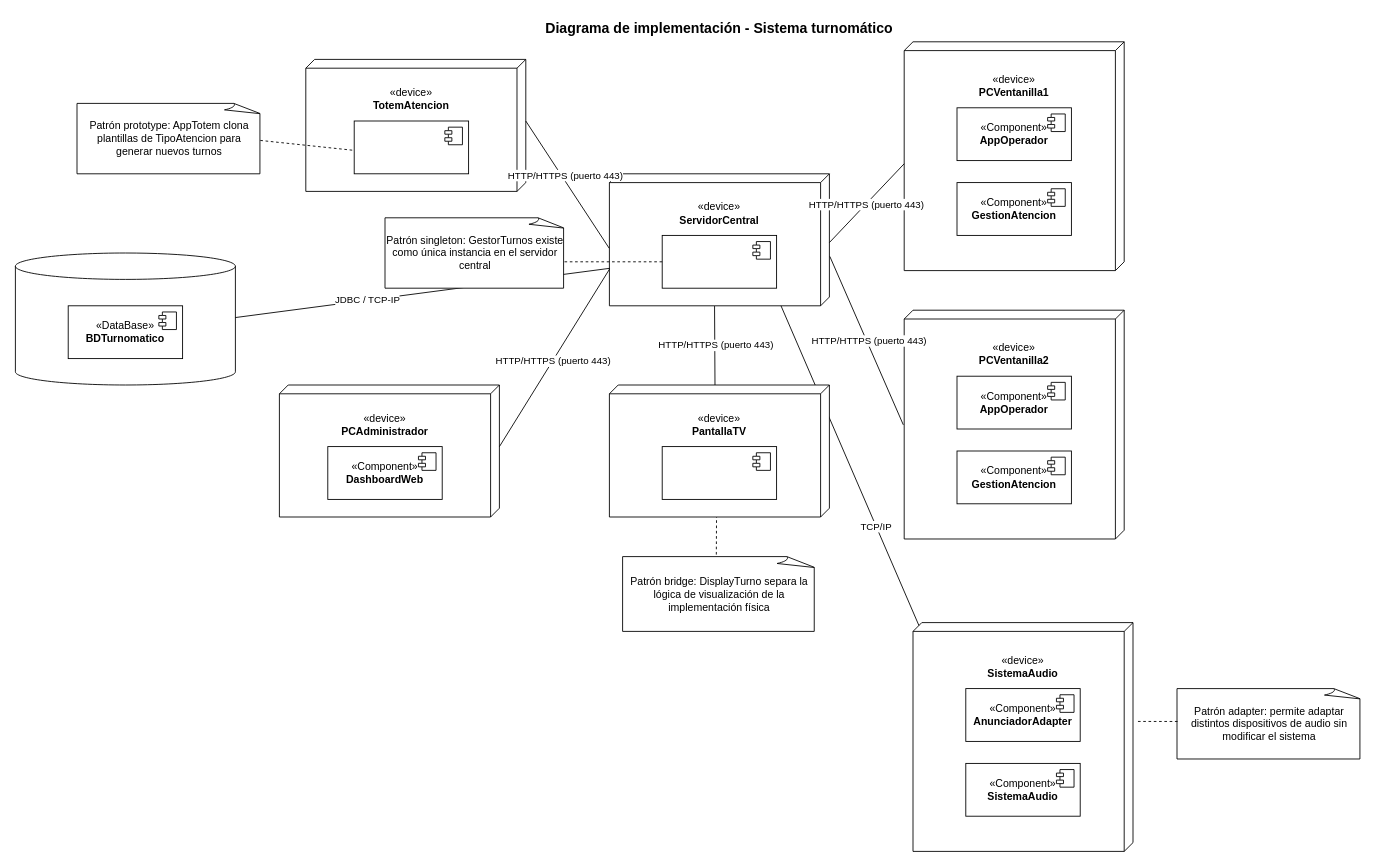
The diagram is 1377 pixels wide and 867 high, and some of its shapes have lost their labels. The shapes that lost their labels are listed below. From the top down, each one's box as (x1, y1, x2, y2) in pixels, then its label:
(353, 120, 469, 174): «Component» AppTotem
(661, 235, 777, 288): «Component» GestorTurno
(661, 446, 777, 499): «Component» DisplayTurno
